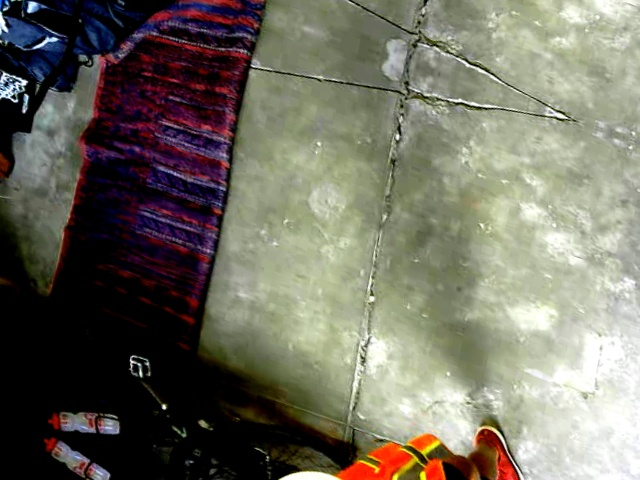eight: (263, 474, 327, 479)
